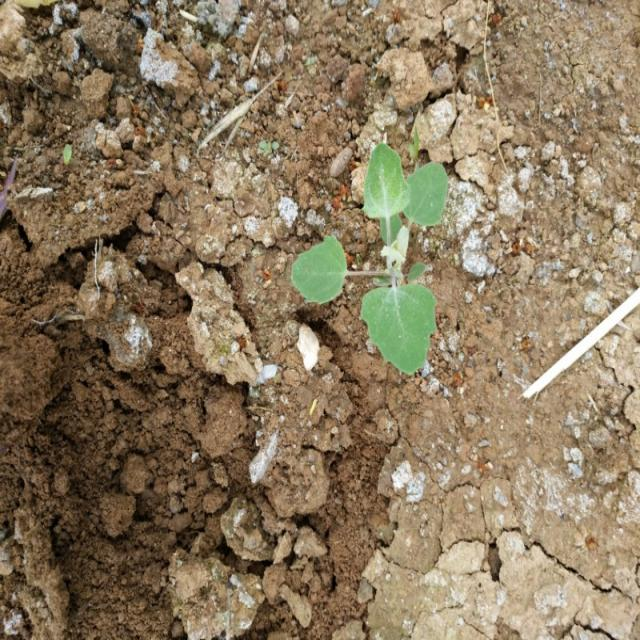ca: (289, 144, 452, 375)
